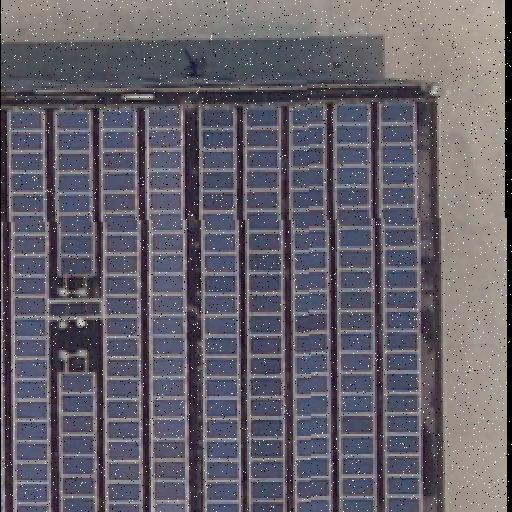solar-panel: (0, 98, 422, 512)
